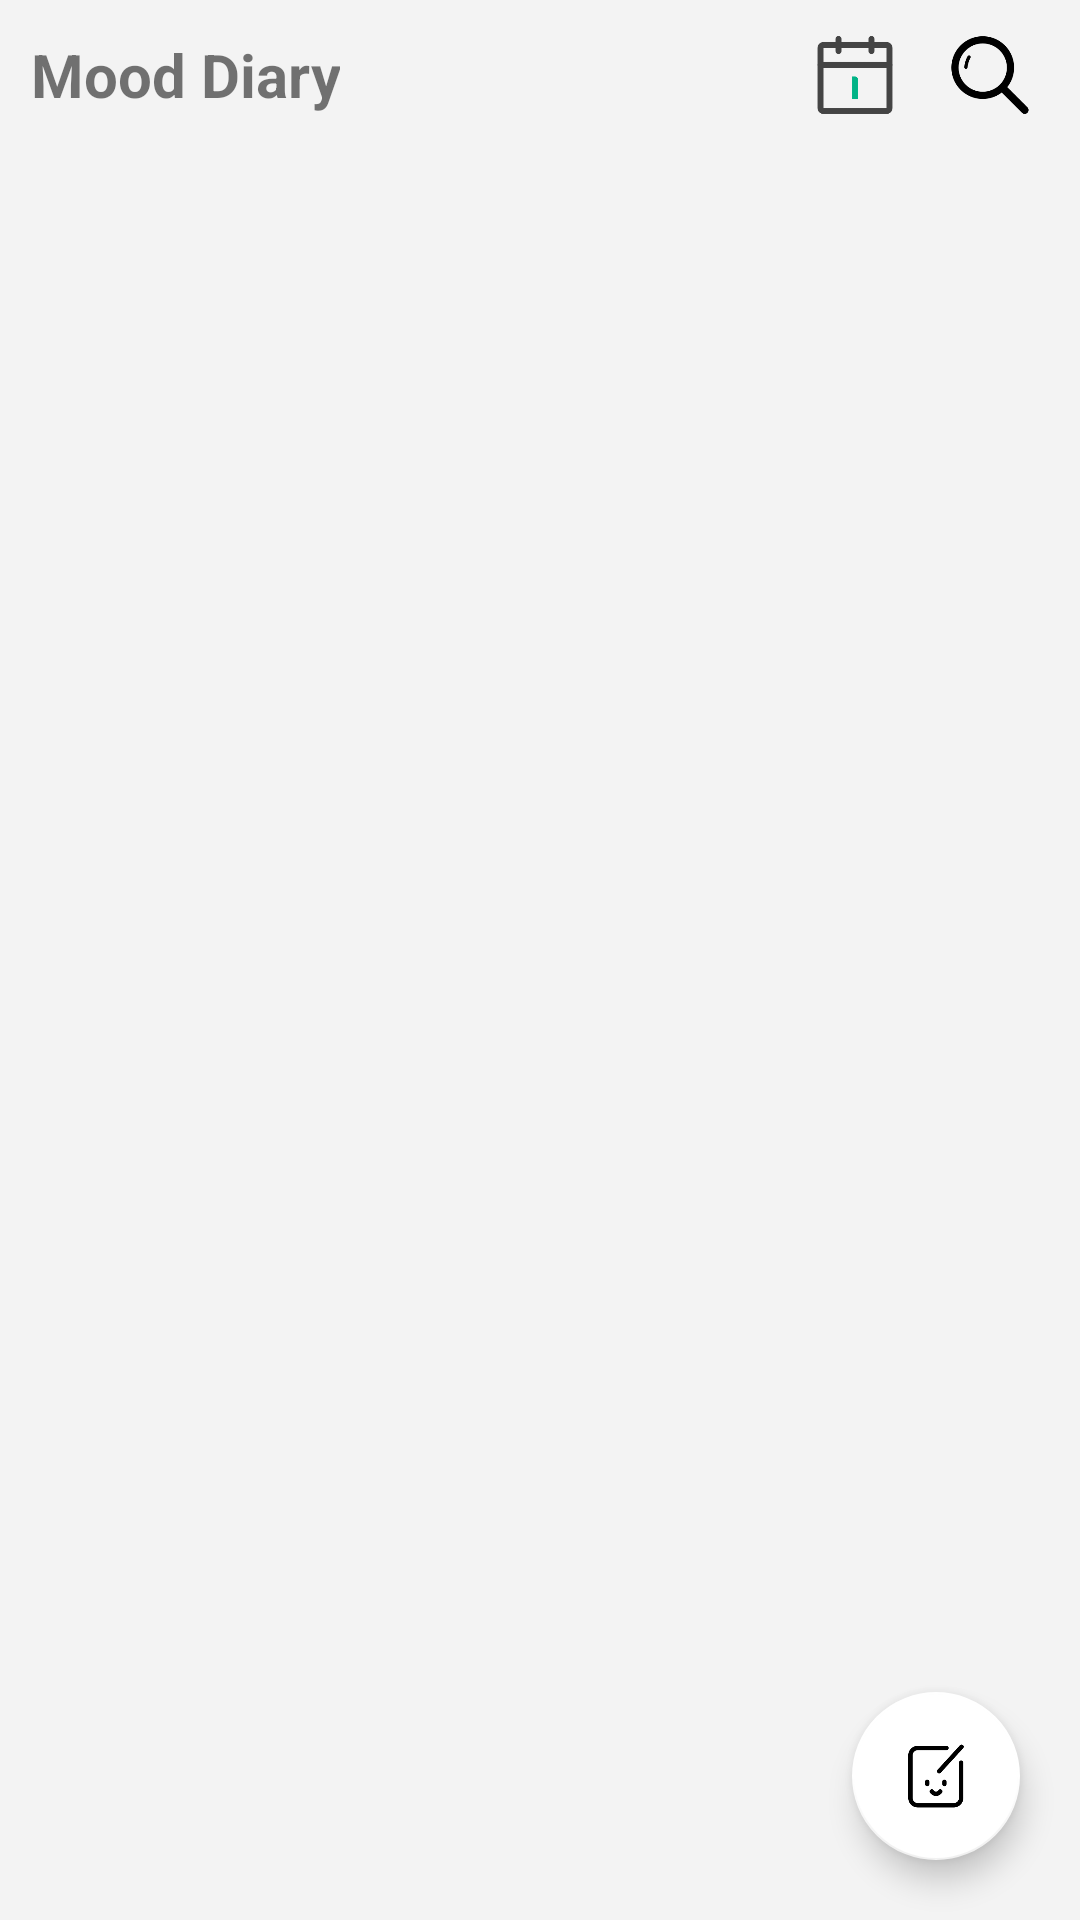

Point at icon controls on the screen. Image size 1080 x 1920, points as (x=x, y=y).
add: (x=936, y=1776)
calendar: (x=855, y=75)
search: (x=990, y=75)
